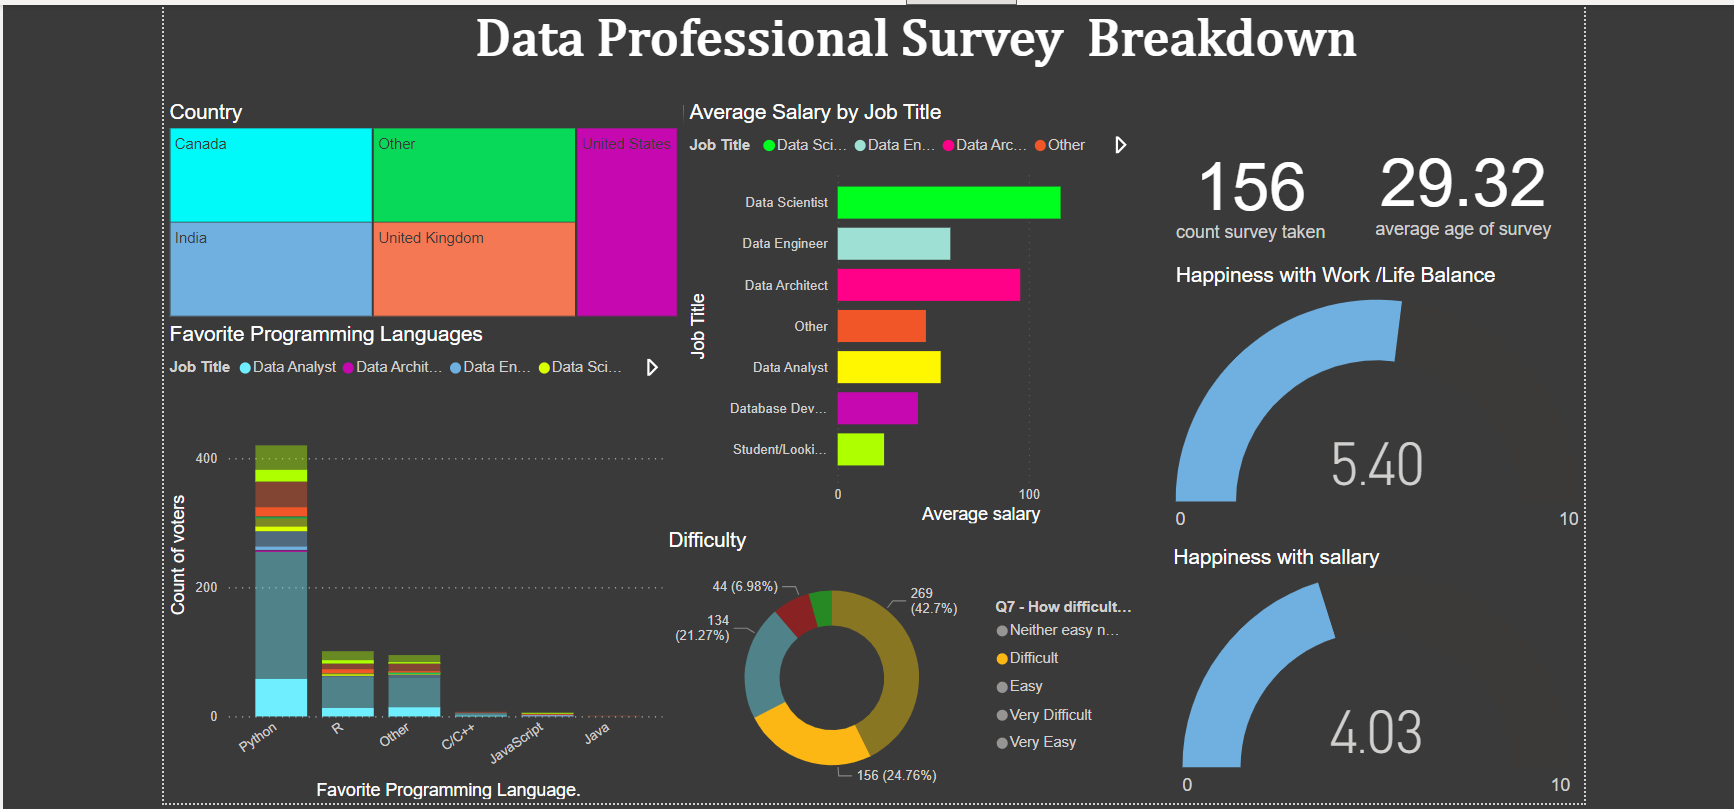

Layout of this report page (visuals, bound fields, positions):
{"tool":"powerbi","page":{"name":"Page 1","canvas":[1280,720],"ordinal":0},"visuals":[{"type":"textbox","box":[0,0,1280.6,90.5],"z":0},{"type":"card","fields":{"Values":["CountNonNull(Data Professional Survey (2).Unique ID)"]},"box":[881,86.1,196.9,163.4],"z":1000},{"type":"card","fields":{"Values":["Avg(Data Professional Survey (2).Q10 - Current Age)"]},"box":[1061.2,90.5,219.4,148.1],"z":2000},{"type":"barChart","title":"Average  Salary by Job Title ","fields":{"Category":["Data Professional Survey (2).Q1 - Which Title Best Fits your Current Role?.1"],"Y":["Avg(Data Professional Survey (2).Average salary)"],"Series":["Data Professional Survey (2).Q1 - Which Title Best Fits your Current Role?.1"]},"box":[468.2,86.1,412.8,386.5],"z":3000},{"type":"columnChart","title":" Favorite Programming Languages","fields":{"Category":["Data Professional Survey (2).Q5 - Favorite Programming Language.1"],"Y":["CountNonNull(Data Professional Survey (2).Unique ID)"],"Series":["Data Professional Survey (2).Q1 - Which Title Best Fits your Current Role?.1"]},"box":[0,285.9,459.4,434.6],"z":4000},{"type":"treemap","title":"Country","fields":{"Values":["Count(Data Professional Survey (2).Q11 - Which Country do you live in?.1)"],"Group":["Data Professional Survey (2).Q11 - Which Country do you live in?.1"]},"box":[0,86.1,468.2,199.8],"z":5000},{"type":"gauge","title":"Happiness  with Work /Life Balance","fields":{"Y":["Avg(Data Professional Survey (2).Q6 - How Happy are you in your Current Position with the following? (Work/Life Balance)"],"MinValue":["Min(Data Professional Survey (2).Q6 - How Happy are you in your Current Position with the following? (Work/Life Balance)"],"MaxValue":["Max(Data Professional Survey (2).Q6 - How Happy are you in your Current Position with the following? (Work/Life Balance)"]},"box":[907.2,233.4,373.4,253.8],"z":6000},{"type":"gauge","title":"Happiness with sallary ","fields":{"MinValue":["Min(Data Professional Survey (2).Q6 - How Happy are you in your Current Position with the following? (Salary))"],"Y":["Avg(Data Professional Survey (2).Q6 - How Happy are you in your Current Position with the following? (Salary))"],"MaxValue":["Max(Data Professional Survey (2).Q6 - How Happy are you in your Current Position with the following? (Salary))"]},"box":[905.7,487.2,374.8,233.4],"z":7000},{"type":"donutChart","title":"Difficulty","fields":{"Category":["Data Professional Survey (2).Q7 - How difficult was it for you to break into Data?"],"Y":["CountNonNull(Data Professional Survey (2).Q7 - How difficult was it for you to break into Data?)"]},"box":[449.2,472.6,431.7,248],"z":8000}]}

Visuals, with their boxes on the page's 1280x720 design canvas (x1, y1, x2, y2). These are canvas units, not pixel positions in the 1734x809 screenshot, which may show the page scaled, cropped or inside an application window:
textbox: box=[0, 0, 1281, 90]
card - CountNonNull(Data Professional Survey (2).Unique ID): box=[881, 86, 1078, 250]
card - Avg(Data Professional Survey (2).Q10 - Current Age): box=[1061, 90, 1281, 239]
"Average  Salary by Job Title " barChart: box=[468, 86, 881, 473]
" Favorite Programming Languages" columnChart: box=[0, 286, 459, 720]
"Country" treemap: box=[0, 86, 468, 286]
"Happiness  with Work /Life Balance" gauge: box=[907, 233, 1281, 487]
"Happiness with sallary " gauge: box=[906, 487, 1280, 721]
"Difficulty" donutChart: box=[449, 473, 881, 721]
